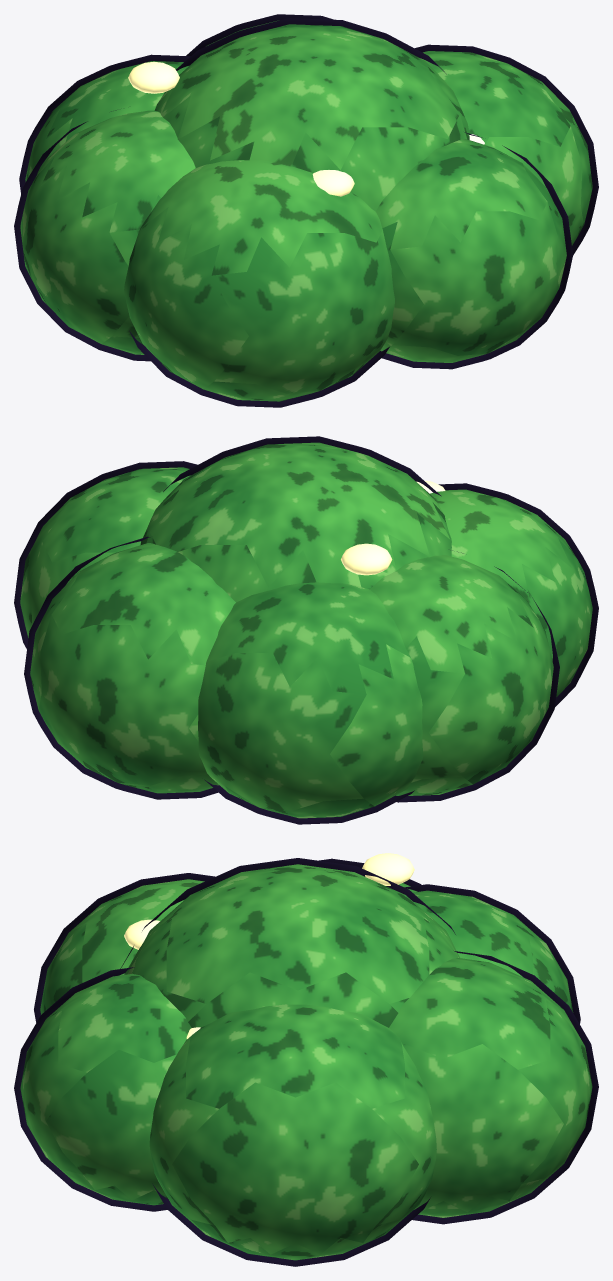
The model's file is bush2.glb.
3 renders of one model, top to bottom at view 1: azimuth 30°, elevation 25°; view 2: azimuth 150°, elevation 25°; view 3: azimuth 270°, elevation 25°, orthographic. The views are drawn at different scales.
Parts seen in each view (by area): view 1: bush2; view 2: bush2; view 3: bush2.
Part boxes in pixels (x1=…): bush2: x1=14, y1=14, x2=598, y2=407; bush2: x1=14, y1=436, x2=598, y2=824; bush2: x1=14, y1=853, x2=598, y2=1266.
Bounding box in the file's own units: 1.18 × 0.6299 × 1.1.
Materials: 3 (1 with a texture image).
